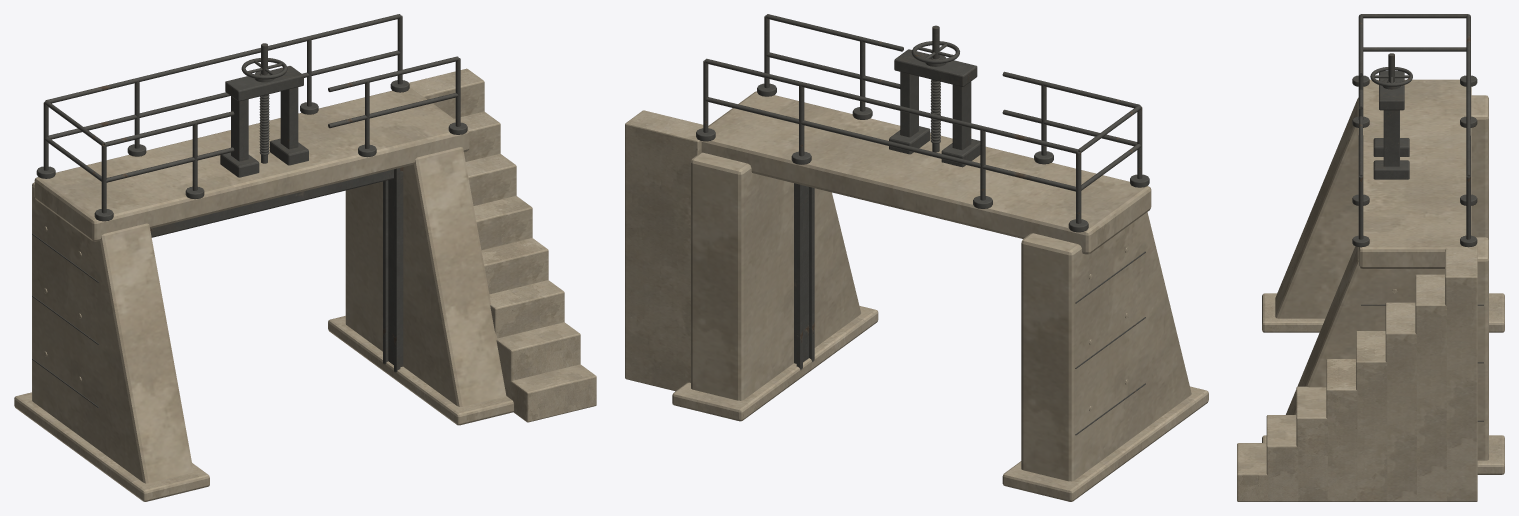
The model's file is SM_IntakeDemo_GateFrame.fbx.
3 views of the same model, side by side, from view 1: azimuth 30°, elevation 25°; view 2: azimuth 150°, elevation 25°; view 3: azimuth 270°, elevation 25° (orthographic). The views are drawn at different scales.
Parts seen in each view (by area): view 1: SM_IntakeDemo_GateFrame; view 2: SM_IntakeDemo_GateFrame; view 3: SM_IntakeDemo_GateFrame.
Boxes of the visible parts, box(x1,y1,x2,y2) form: SM_IntakeDemo_GateFrame: box(14, 14, 596, 501); SM_IntakeDemo_GateFrame: box(625, 14, 1208, 501); SM_IntakeDemo_GateFrame: box(1237, 14, 1504, 501).
Size of what is drawn, in the model's own units: 460 by 261 by 361.
